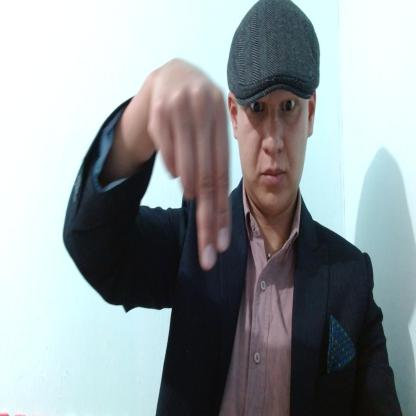N: (148, 58, 232, 270)
